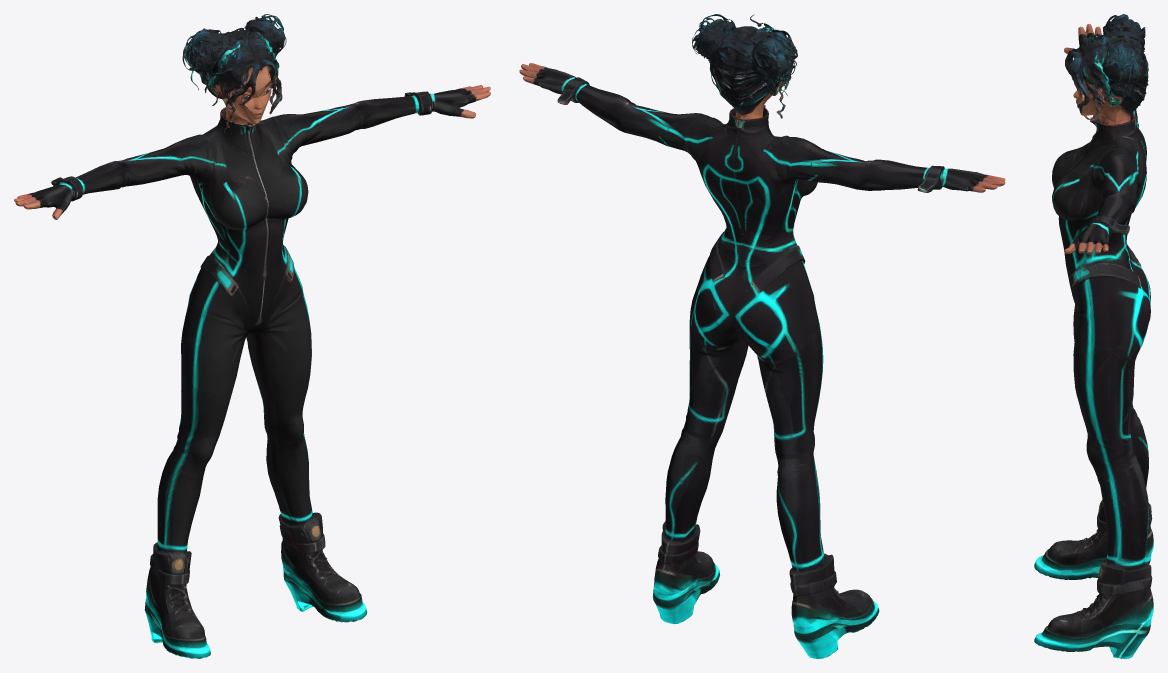
File: zerox-council-mesh.glb
3 renders of one model, left to right at view 1: azimuth 30°, elevation 25°; view 2: azimuth 150°, elevation 25°; view 3: azimuth 270°, elevation 25°, orthographic. The views are drawn at different scales.
Visible parts, largest first — view 1: Mesh_0; view 2: Mesh_0; view 3: Mesh_0.
Boxes of the visible parts, box(x1,y1,x2,y2) form: Mesh_0: box(14, 14, 490, 658); Mesh_0: box(519, 14, 1005, 658); Mesh_0: box(1034, 14, 1153, 658).
Size of the model in its own units: 1.55 by 1.9 by 0.3449.
Materials: 1 (1 with a texture image).
